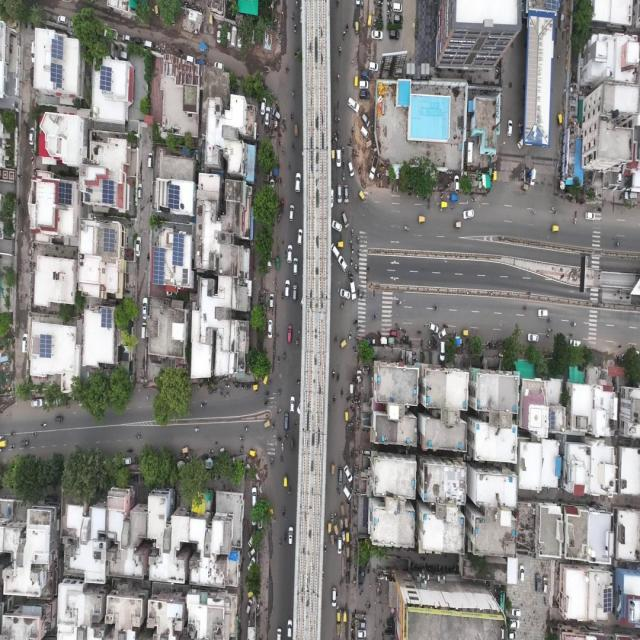3W: (292, 123, 300, 144), (555, 110, 563, 130), (52, 417, 68, 427), (342, 608, 351, 625), (356, 187, 366, 202), (417, 212, 426, 228), (549, 222, 561, 234), (334, 237, 344, 250), (153, 3, 160, 21), (339, 338, 348, 352), (344, 570, 351, 588), (437, 199, 448, 210), (332, 519, 339, 536), (260, 373, 269, 386), (329, 464, 337, 478), (368, 10, 373, 32), (339, 502, 345, 520), (252, 382, 261, 394), (247, 444, 256, 456), (0, 439, 9, 451), (282, 473, 288, 490), (344, 544, 351, 558), (354, 74, 360, 90), (330, 146, 336, 162), (492, 168, 498, 184), (335, 608, 341, 624), (354, 20, 359, 39), (459, 329, 469, 338), (344, 406, 349, 424), (338, 514, 344, 529), (343, 516, 349, 530), (453, 221, 463, 229), (327, 520, 332, 535), (335, 621, 340, 636), (264, 418, 270, 430), (344, 531, 349, 545), (345, 558, 350, 572), (329, 534, 334, 547), (209, 13, 213, 28)
Cars: (346, 94, 362, 113), (29, 398, 46, 414), (540, 569, 549, 597), (337, 283, 350, 301), (349, 277, 359, 300), (331, 216, 343, 235), (360, 111, 372, 130), (231, 24, 240, 49), (370, 28, 386, 42), (532, 572, 542, 594), (283, 409, 292, 433), (135, 232, 143, 258), (293, 170, 301, 196), (452, 172, 461, 195), (510, 602, 522, 619), (462, 207, 476, 221), (338, 464, 346, 488), (284, 614, 292, 638), (386, 30, 402, 42), (427, 319, 438, 336), (335, 182, 343, 205), (290, 282, 299, 302), (330, 241, 340, 259), (342, 484, 352, 502), (214, 57, 226, 72), (437, 340, 445, 362), (516, 135, 526, 152), (272, 106, 282, 123), (582, 210, 595, 223), (391, 1, 404, 14), (120, 455, 132, 469), (345, 459, 352, 483), (357, 87, 371, 99), (358, 123, 369, 138), (289, 393, 296, 416), (285, 322, 292, 345), (22, 329, 28, 355), (331, 586, 337, 612), (508, 617, 520, 630), (525, 334, 538, 346), (388, 327, 400, 340), (361, 70, 374, 82), (264, 104, 270, 130), (116, 48, 128, 61), (290, 432, 296, 458), (250, 484, 257, 506), (27, 128, 34, 150), (530, 164, 536, 189), (267, 317, 273, 341), (274, 252, 282, 270), (339, 214, 349, 228), (260, 96, 267, 116), (120, 32, 134, 42), (345, 182, 351, 205), (216, 24, 222, 47), (136, 182, 142, 205), (30, 40, 36, 63), (247, 532, 255, 549), (339, 256, 348, 271), (142, 296, 148, 318), (17, 436, 29, 447), (357, 626, 367, 639), (245, 598, 252, 616), (536, 308, 550, 317), (568, 337, 582, 346), (285, 275, 290, 300), (519, 563, 525, 583), (508, 628, 518, 640), (436, 326, 446, 338), (348, 157, 354, 177), (289, 202, 295, 222), (392, 13, 404, 23), (368, 60, 378, 72), (246, 558, 255, 571), (331, 186, 336, 209), (29, 66, 34, 89), (288, 524, 293, 546), (336, 147, 341, 169), (185, 55, 195, 66), (143, 40, 153, 51), (142, 320, 148, 338), (246, 546, 255, 558), (507, 121, 513, 139), (269, 289, 274, 310), (293, 250, 297, 276), (288, 241, 292, 266), (57, 15, 67, 25), (358, 618, 366, 630), (147, 154, 153, 170), (338, 537, 343, 556), (360, 81, 370, 90), (194, 58, 205, 66), (276, 626, 282, 640), (297, 224, 301, 244)
LCV: (366, 150, 380, 180), (199, 40, 209, 55)
M2W: (327, 391, 337, 407), (528, 204, 538, 220), (413, 323, 423, 338), (274, 351, 282, 369), (396, 296, 406, 310), (283, 524, 289, 547), (276, 534, 282, 557), (274, 399, 282, 416), (402, 222, 411, 237), (193, 423, 200, 441), (281, 428, 290, 442), (286, 484, 294, 499), (332, 331, 338, 350), (339, 299, 347, 313), (28, 428, 38, 439), (432, 302, 442, 313), (370, 312, 380, 323), (275, 384, 284, 396), (321, 542, 330, 554), (282, 500, 287, 521), (288, 140, 295, 155), (346, 328, 352, 345), (8, 427, 17, 438), (241, 424, 250, 435), (134, 428, 141, 442), (348, 252, 355, 266), (7, 441, 15, 453), (263, 382, 269, 398), (276, 432, 282, 448), (294, 376, 302, 388), (336, 486, 343, 499), (235, 433, 244, 443), (280, 349, 286, 364), (297, 324, 303, 339), (332, 509, 338, 524), (238, 443, 246, 454), (350, 247, 357, 259), (570, 317, 576, 331), (351, 317, 360, 326), (40, 417, 48, 427), (272, 413, 276, 433), (545, 316, 553, 326), (198, 401, 206, 410), (222, 382, 231, 390), (291, 418, 300, 426), (330, 372, 336, 384), (354, 235, 360, 247), (334, 112, 340, 124), (523, 302, 529, 314), (284, 158, 290, 170), (353, 260, 358, 274), (335, 71, 340, 85), (285, 63, 292, 73), (25, 451, 31, 462), (212, 387, 218, 398), (357, 249, 362, 262), (341, 169, 346, 182), (340, 385, 344, 400), (355, 324, 361, 334), (282, 442, 286, 456), (296, 335, 300, 349), (348, 239, 354, 248), (290, 89, 296, 98), (293, 23, 297, 36), (342, 27, 345, 44), (470, 196, 477, 203), (336, 372, 340, 384), (547, 326, 553, 334), (288, 112, 294, 120), (337, 127, 342, 136), (338, 41, 341, 56), (344, 22, 349, 31), (280, 455, 284, 466), (341, 143, 344, 155), (341, 157, 344, 168), (351, 228, 354, 237), (292, 10, 294, 23), (264, 400, 268, 405)
